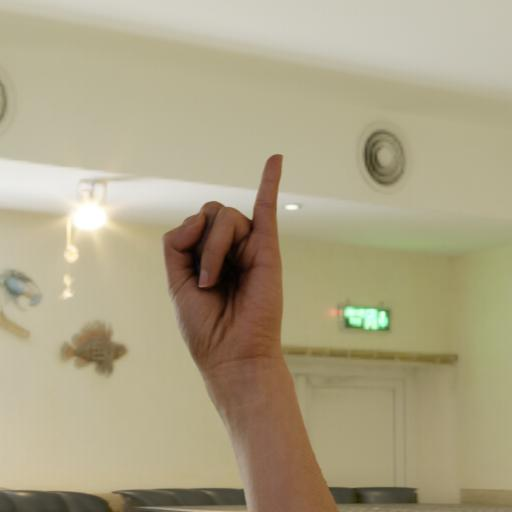I: (148, 148, 305, 405)
